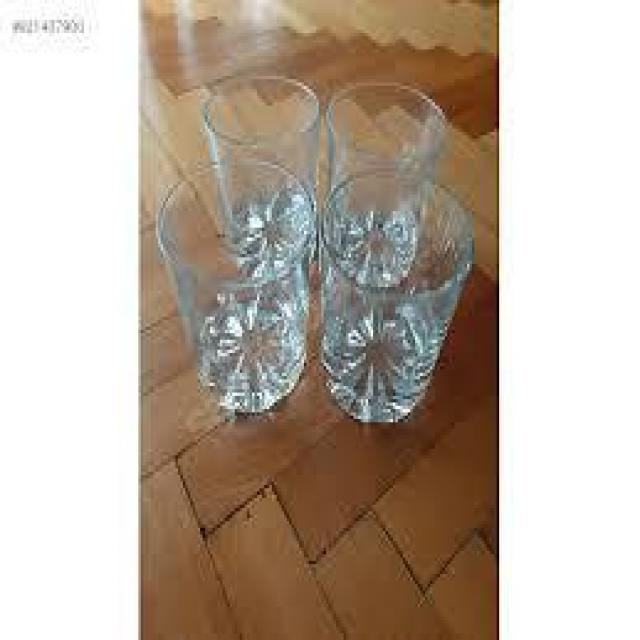non-organic waste: (318, 170, 473, 424)
